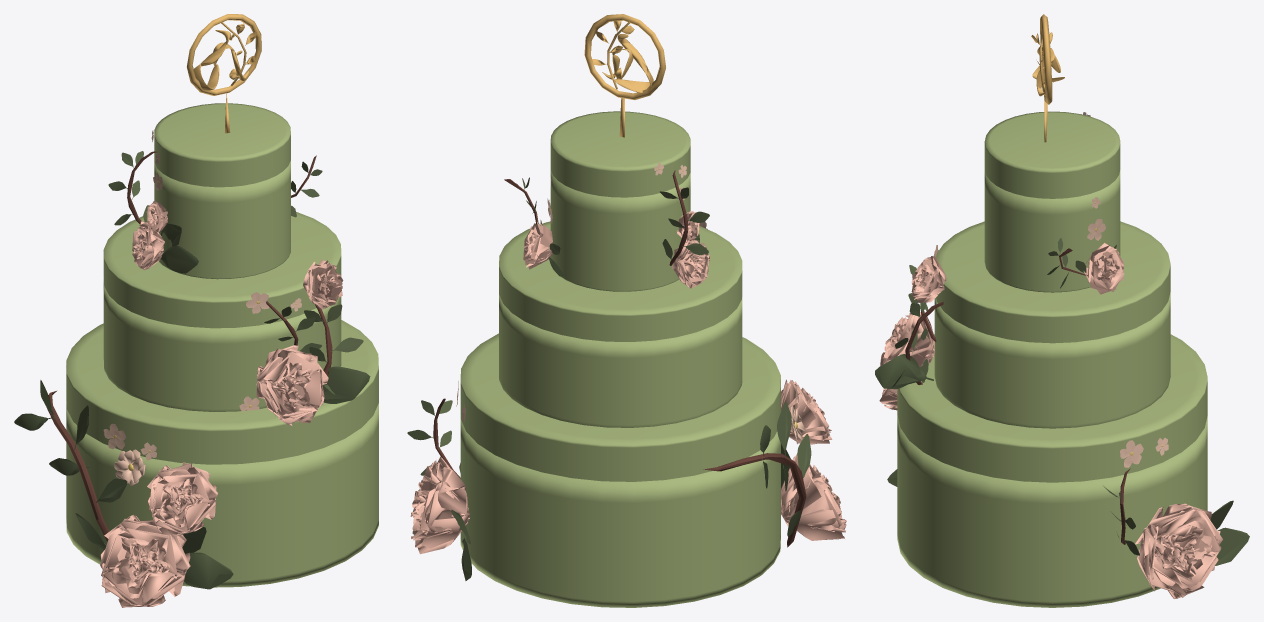
The model's file is 3-tier-pistage-roses-ring.glb.
3 renders of one model, left to right at view 1: azimuth 30°, elevation 25°; view 2: azimuth 150°, elevation 25°; view 3: azimuth 270°, elevation 25°, orthographic. The views are drawn at different scales.
Parts seen in each view (by area): view 1: Cylinder.022, Cylinder.014, Cylinder.021, grid.042, grid.044, grid.040, Plane.093, Cylinder.020, grid.043, Plane.087, Plane.091, Plane.095 (+6 smaller); view 2: Cylinder.022, Cylinder.014, Cylinder.021, grid.029, Cylinder.020, grid.042, Plane.093, grid.040, grid.045, Plane.092, grid.047, Plane.084; view 3: Cylinder.022, Cylinder.014, Cylinder.021, grid.029, grid.044, Cylinder.020, grid.047, Plane.087, grid.043, Plane.095, Plane.082, Plane.084.
Boxes of the visible parts, <box> form: Cylinder.022: <box>66,320,378,587</box>; Cylinder.014: <box>103,212,341,411</box>; Cylinder.021: <box>154,103,290,279</box>; grid.042: <box>100,514,190,607</box>; grid.044: <box>256,345,328,426</box>; grid.040: <box>147,462,217,537</box>; Plane.093: <box>14,380,127,550</box>; Cylinder.020: <box>187,14,261,133</box>; grid.043: <box>303,259,343,309</box>; Plane.087: <box>322,366,370,403</box>; Plane.091: <box>183,552,233,589</box>; Plane.095: <box>304,304,363,394</box>; Cylinder.022: <box>460,333,780,607</box>; Cylinder.014: <box>499,221,742,427</box>; Cylinder.021: <box>550,111,690,291</box>; grid.029: <box>410,456,469,554</box>; Cylinder.020: <box>584,14,665,137</box>; grid.042: <box>781,453,846,540</box>; Plane.093: <box>703,402,811,547</box>; grid.040: <box>781,379,832,444</box>; grid.045: <box>672,240,709,288</box>; Plane.092: <box>660,170,709,265</box>; grid.047: <box>523,222,552,269</box>; Plane.084: <box>407,398,460,478</box>; Cylinder.022: <box>897,334,1207,607</box>; Cylinder.014: <box>934,221,1170,428</box>; Cylinder.021: <box>984,111,1120,292</box>; grid.029: <box>1135,503,1222,598</box>; grid.044: <box>880,311,934,366</box>; Cylinder.020: <box>1031,14,1064,142</box>; grid.047: <box>1083,243,1124,294</box>; Plane.087: <box>875,354,933,389</box>; grid.043: <box>911,256,946,303</box>; Plane.095: <box>892,302,943,387</box>; Plane.082: <box>1215,527,1249,565</box>; Plane.084: <box>1103,468,1139,555</box>.
Size of the model in its own units: 5.28 by 7.56 by 4.9.
